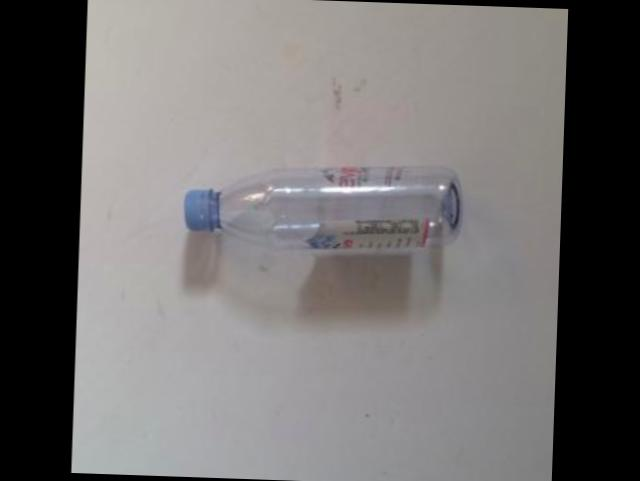plastic: (183, 163, 457, 246)
